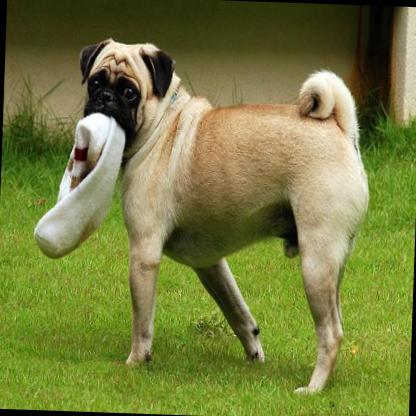pug: (63, 34, 375, 398)
